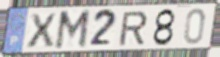0: (183, 8, 207, 46)
2: (87, 8, 119, 50)
8: (152, 8, 176, 47)
M: (53, 9, 92, 52)
R: (118, 10, 150, 47)
X: (25, 12, 58, 50)
